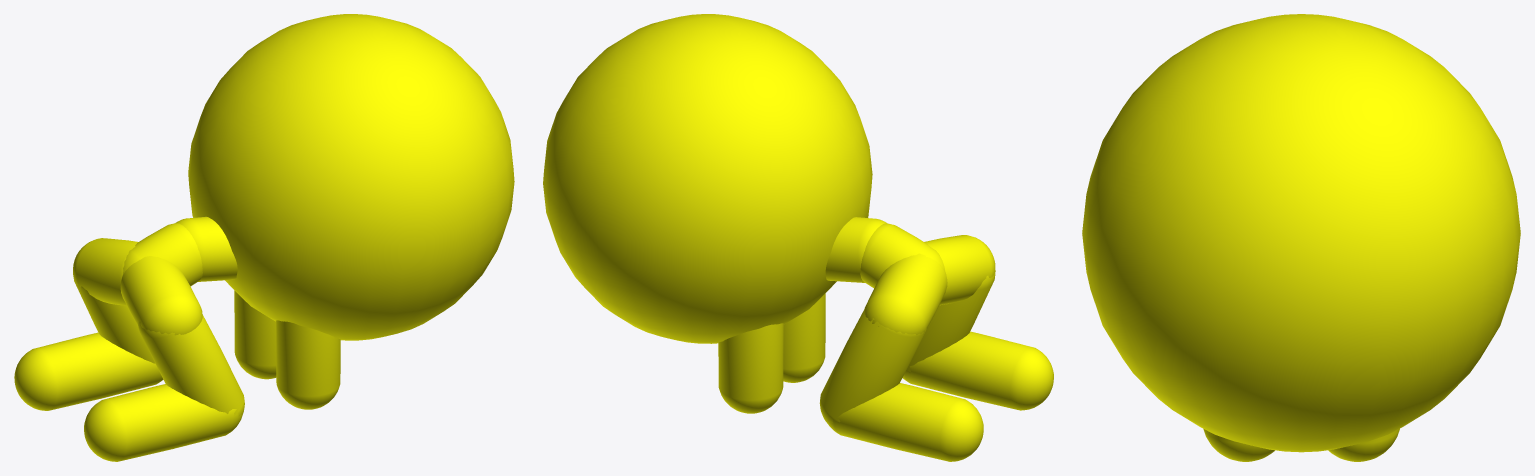
The model's file is StickMan_orz.obj.
The picture shows the model from 3 angles, left to right: view 1: azimuth 30°, elevation 25°; view 2: azimuth 150°, elevation 25°; view 3: azimuth 270°, elevation 25°; orthographic projection. The views are drawn at different scales.
Parts seen in each view (by area): view 1: 球.004, 球.008, 球.022, 球.019, 球.006, 球.003, 球.005, 球.024, 球.023, 球.007, 球.018; view 2: 球.004, 球.022, 球.008, 球.007, 球.024, 球.005, 球.003, 球.006, 球.019, 球.023, 球.018; view 3: 球.004, 球.024, 球.006.
Part boxes in pixels (left/top/right/bottom): 球.004: left=188, top=14, right=514, bottom=340; 球.008: left=84, top=384, right=242, bottom=461; 球.022: left=14, top=332, right=163, bottom=410; 球.019: left=138, top=315, right=244, bottom=416; 球.006: left=276, top=320, right=340, bottom=409; 球.003: left=120, top=256, right=202, bottom=335; 球.005: left=73, top=238, right=138, bottom=305; 球.024: left=234, top=290, right=276, bottom=379; 球.023: left=123, top=223, right=202, bottom=286; 球.007: left=73, top=278, right=155, bottom=363; 球.018: left=175, top=216, right=237, bottom=281; 球.004: left=543, top=14, right=872, bottom=343; 球.022: left=829, top=383, right=983, bottom=461; 球.008: left=902, top=331, right=1053, bottom=410; 球.007: left=819, top=310, right=926, bottom=424; 球.024: left=718, top=323, right=783, bottom=413; 球.005: left=864, top=253, right=947, bottom=334; 球.003: left=924, top=235, right=995, bottom=305; 球.006: left=783, top=293, right=825, bottom=382; 球.019: left=906, top=270, right=995, bottom=372; 球.023: left=860, top=223, right=945, bottom=288; 球.018: left=825, top=217, right=887, bottom=282; 球.004: left=1082, top=14, right=1520, bottom=452; 球.024: left=1328, top=428, right=1399, bottom=461; 球.006: left=1203, top=429, right=1274, bottom=461.
Size of the model in its own units: 15.62 by 11.7 by 10.
